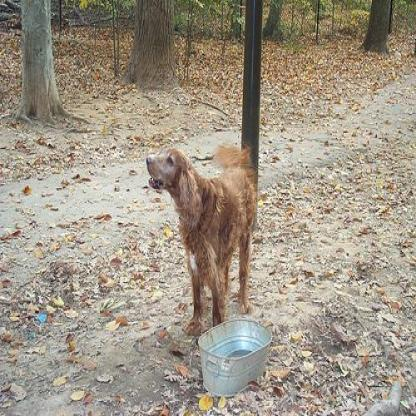Irish_setter: (144, 140, 257, 338)
